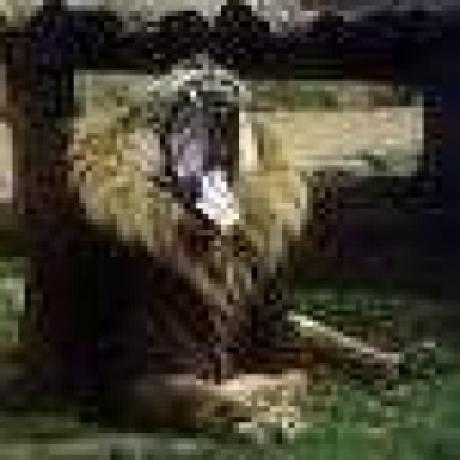Lion: (28, 58, 437, 448)
